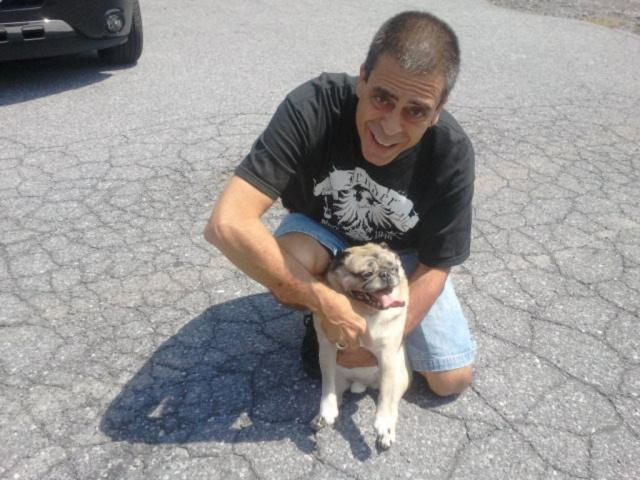Dog: (308, 242, 408, 447)
